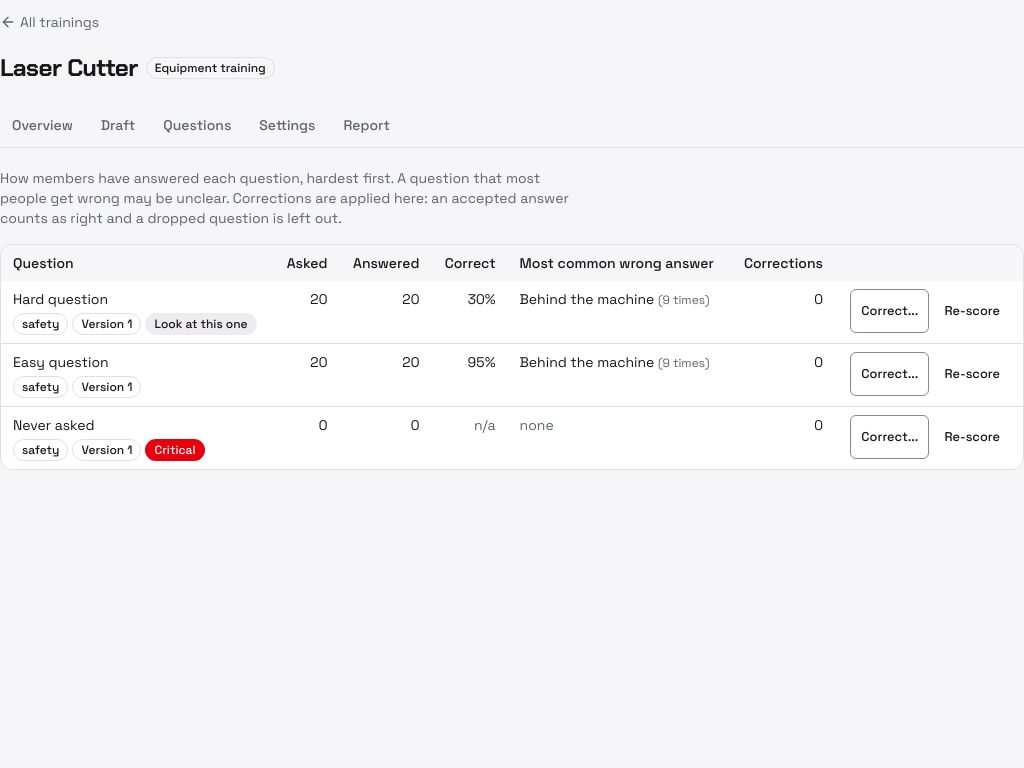
Test: QuestionReport corrections › drops the question, which needs no option, but still needs a reason
Expected: the heading "Laser Cutter" is shown, [0,52,138,84]
Click the button with aria-label "correct: hard question".
click(890, 311)  # box [850,289,929,333]
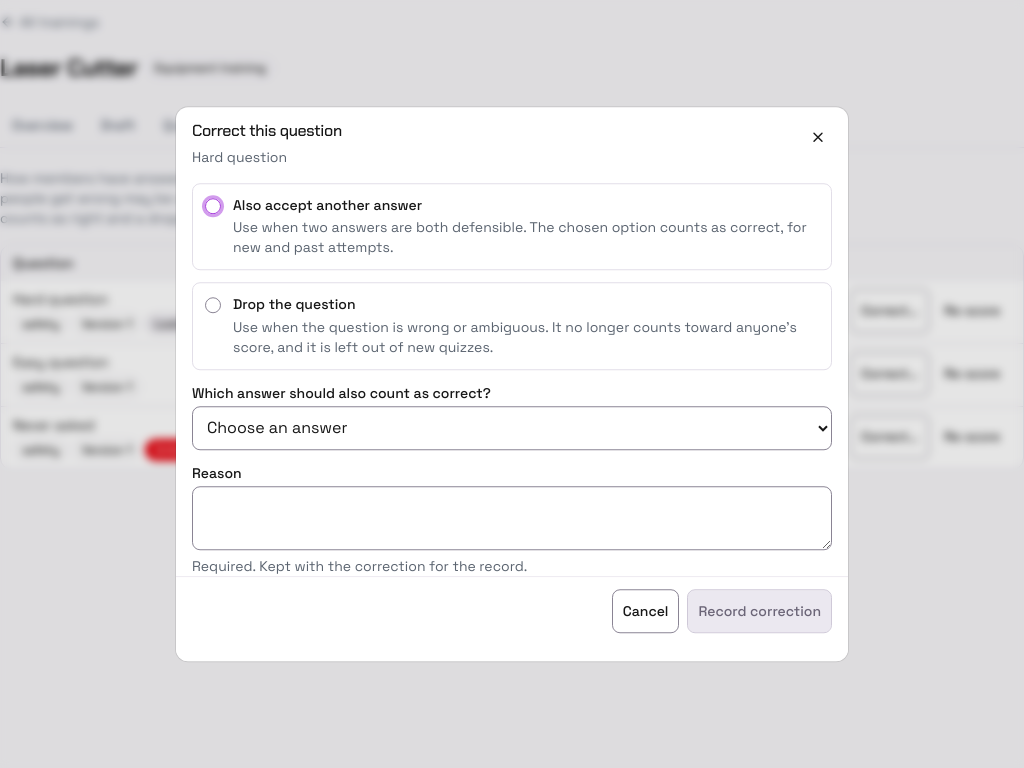
Click the radio button named "drop the question" next to "Drop the question".
click(213, 306)  # box [205,298,221,314]
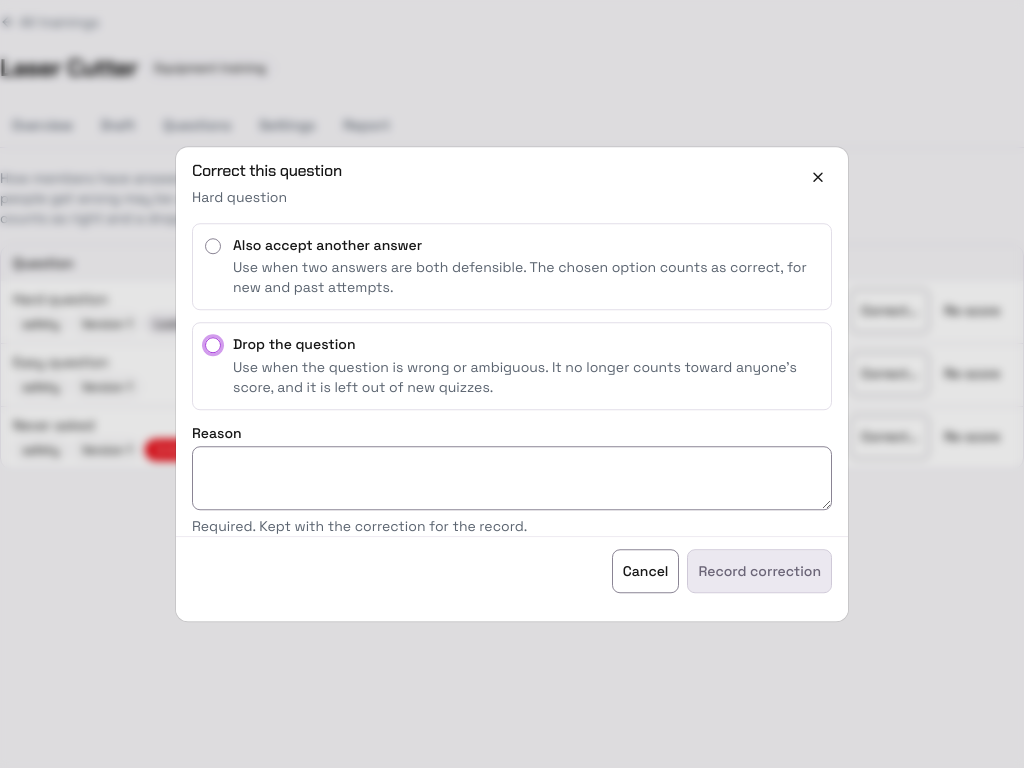
Now the button "Record correction" is disabled, box [688,549,832,593]
Now the label labelled "Which answer should also count" is gone
Type "The question was wrong" into the text box labelled "Reason".
click(512, 478); type("The question was wrong")  # box [192,446,832,510]
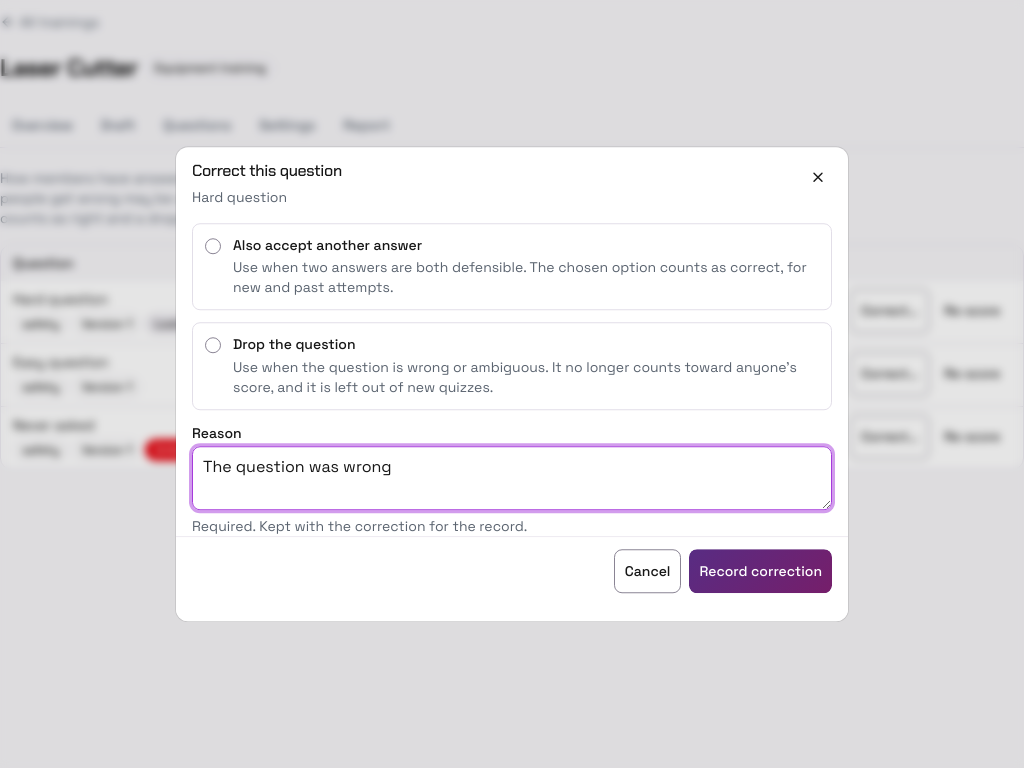
Click the button "Record correction".
click(761, 571)  # box [690,549,832,593]
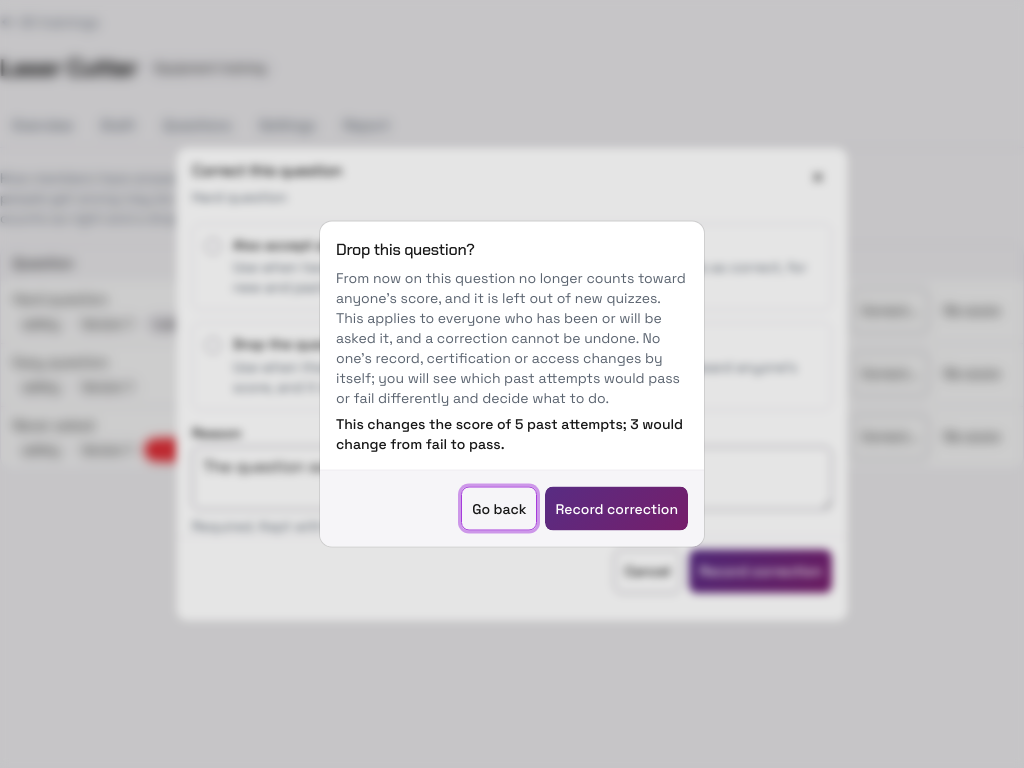
Now the text "This changes the score" is shown, box [336,414,683,452]
Click the button "Record correction".
click(617, 508)  # box [546,486,688,530]
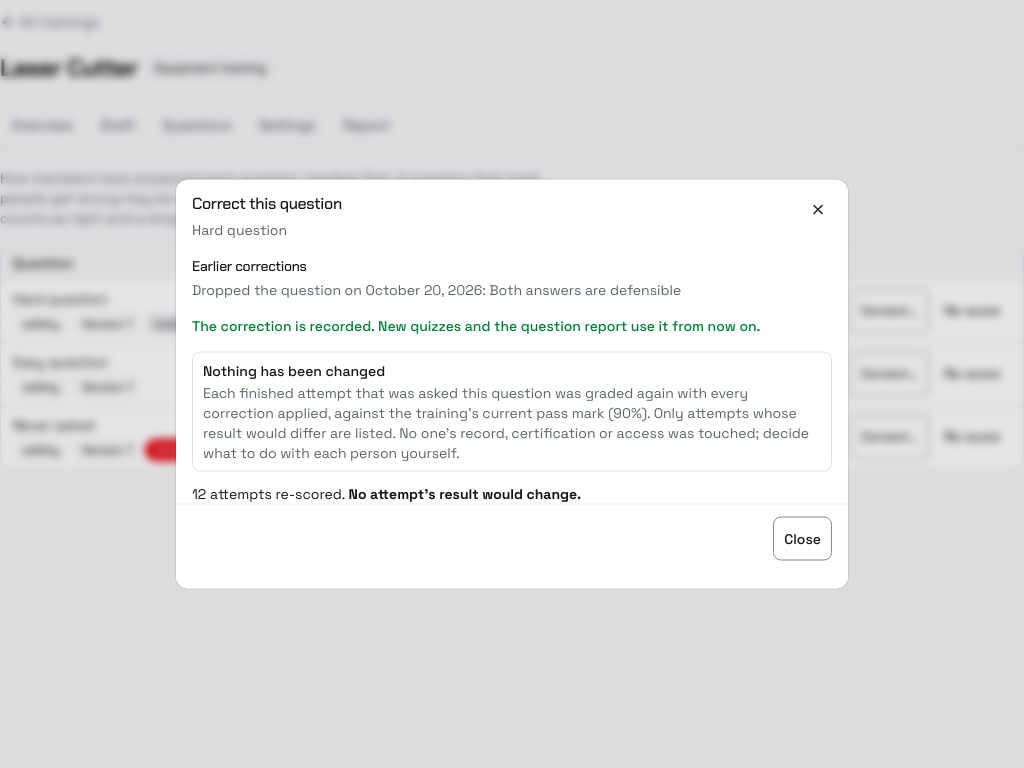
Now the text "No attempt’s result would change." is shown, box [348,484,581,502]
